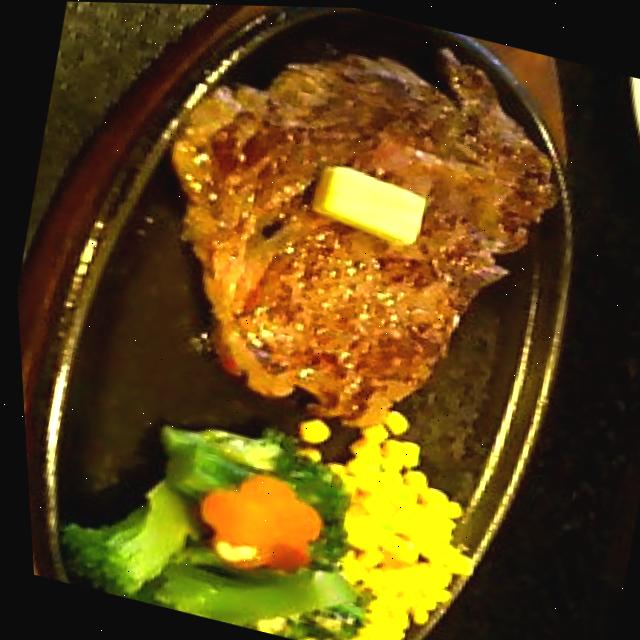牛肉菜式: (99, 2, 597, 471)
